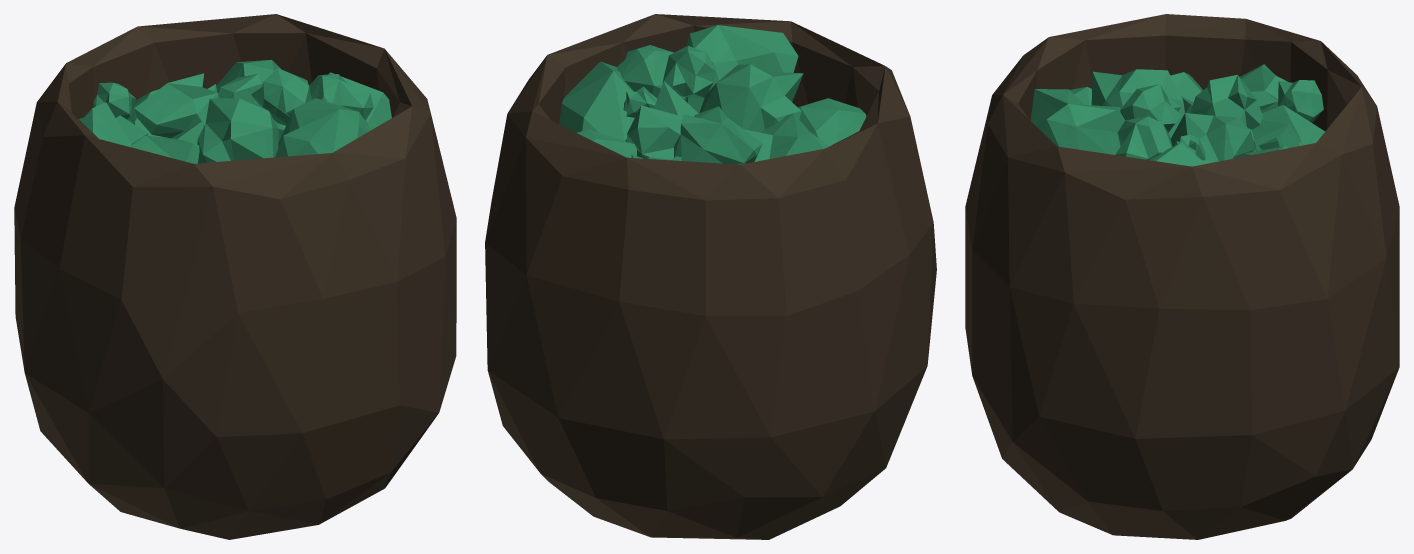
The model's file is pot of emerald.glb.
3 views of the same model, side by side, from view 1: azimuth 30°, elevation 25°; view 2: azimuth 150°, elevation 25°; view 3: azimuth 270°, elevation 25° (orthographic).
Parts seen in each view (by area): view 1: Cube, Cube.009, Cube.001, Cube.013, Cube.014, Cube.016, Cube.011, Cube.007, Cube.017, Cube.005, Cube.002, Cube.006; view 2: Cube, Cube.009, Cube.001, Cube.002, Cube.013, Cube.006, Cube.012, Cube.014, Cube.007, Cube.016, Cube.005, Cube.015; view 3: Cube, Cube.001, Cube.006, Cube.009, Cube.013, Cube.010, Cube.016, Cube.014, Cube.017, Cube.011, Cube.002, Cube.007.
Part boxes in pixels (x1=…): Cube: x1=14, y1=14, x2=456, y2=539; Cube.009: x1=197, y1=98, x2=284, y2=163; Cube.001: x1=275, y1=98, x2=370, y2=157; Cube.013: x1=134, y1=73, x2=219, y2=138; Cube.014: x1=251, y1=68, x2=311, y2=125; Cube.016: x1=309, y1=74, x2=373, y2=120; Cube.011: x1=79, y1=102, x2=147, y2=146; Cube.007: x1=129, y1=120, x2=203, y2=163; Cube.017: x1=93, y1=82, x2=135, y2=119; Cube.005: x1=216, y1=59, x2=280, y2=93; Cube.002: x1=328, y1=72, x2=391, y2=129; Cube.006: x1=218, y1=73, x2=285, y2=128; Cube: x1=485, y1=14, x2=936, y2=539; Cube.009: x1=699, y1=64, x2=803, y2=132; Cube.001: x1=685, y1=25, x2=798, y2=113; Cube.002: x1=559, y1=61, x2=634, y2=140; Cube.013: x1=674, y1=106, x2=762, y2=164; Cube.006: x1=625, y1=81, x2=698, y2=159; Cube.012: x1=797, y1=98, x2=866, y2=146; Cube.014: x1=662, y1=46, x2=715, y2=97; Cube.007: x1=744, y1=113, x2=828, y2=161; Cube.016: x1=617, y1=45, x2=685, y2=99; Cube.005: x1=576, y1=129, x2=636, y2=157; Cube.015: x1=623, y1=86, x2=657, y2=117; Cube: x1=965, y1=14, x2=1399, y2=539; Cube.001: x1=1030, y1=89, x2=1125, y2=154; Cube.006: x1=1171, y1=113, x2=1255, y2=163; Cube.009: x1=1091, y1=69, x2=1184, y2=138; Cube.013: x1=1190, y1=75, x2=1262, y2=129; Cube.010: x1=1248, y1=105, x2=1325, y2=151; Cube.016: x1=1115, y1=116, x2=1172, y2=159; Cube.014: x1=1120, y1=84, x2=1181, y2=132; Cube.017: x1=1278, y1=80, x2=1323, y2=122; Cube.011: x1=1240, y1=64, x2=1288, y2=109; Cube.002: x1=1149, y1=142, x2=1205, y2=166; Cube.007: x1=1170, y1=72, x2=1202, y2=113.
Bounding box in the file's own units: 0.5067 × 0.5548 × 0.5067.
